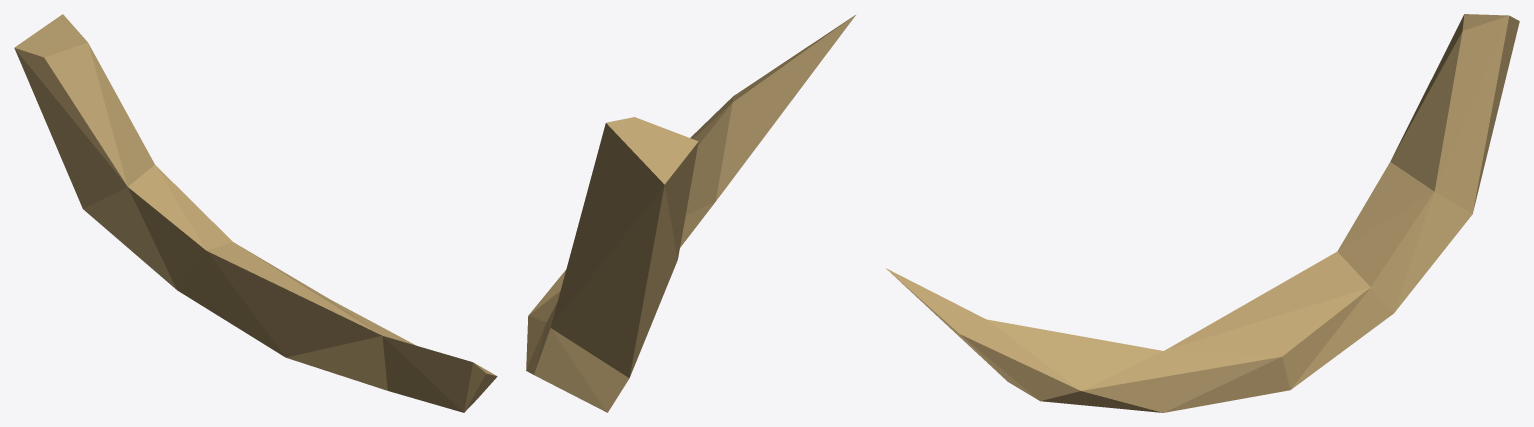
The model's file is Horn1.fbx.
3 views of the same model, side by side, from view 1: azimuth 30°, elevation 25°; view 2: azimuth 150°, elevation 25°; view 3: azimuth 270°, elevation 25° (orthographic). The views are drawn at different scales.
Visible parts, largest first — view 1: Mammoth.002; view 2: Mammoth.002; view 3: Mammoth.002.
Boxes of the visible parts, x1,y1,x2,y2 form: Mammoth.002: (14, 14, 497, 412); Mammoth.002: (526, 14, 856, 412); Mammoth.002: (886, 14, 1519, 412).
Bounding box in the file's own units: 0.3036 × 0.348 × 0.6492.
